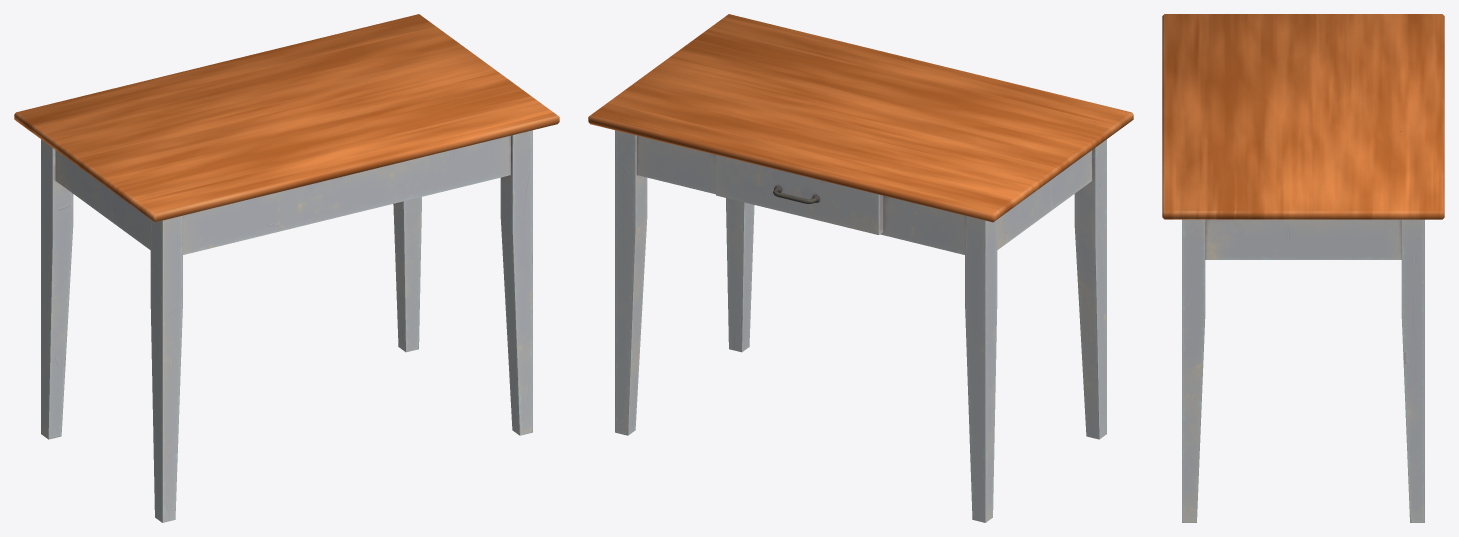
File: vintage_table.gltf
The picture shows the model from 3 angles, left to right: view 1: azimuth 30°, elevation 25°; view 2: azimuth 150°, elevation 25°; view 3: azimuth 270°, elevation 25°; orthographic projection.
Visible parts, largest first — view 1: Tabletop, Leg, Basis; view 2: Tabletop, Leg, Basis, Box; view 3: Tabletop, Leg, Basis.
Part boxes in pixels (x1,y1,x2,y2): Tabletop: [14, 14, 559, 222]; Leg: [41, 130, 532, 522]; Basis: [55, 135, 510, 254]; Tabletop: [588, 14, 1133, 222]; Leg: [615, 130, 1106, 522]; Basis: [637, 135, 1092, 254]; Box: [716, 155, 883, 234]; Tabletop: [1162, 14, 1444, 219]; Leg: [1182, 219, 1424, 522]; Basis: [1205, 219, 1401, 259].
Bounding box in the file's own units: 1 × 0.75 × 0.6.
Materials: 1 (1 with a texture image).
